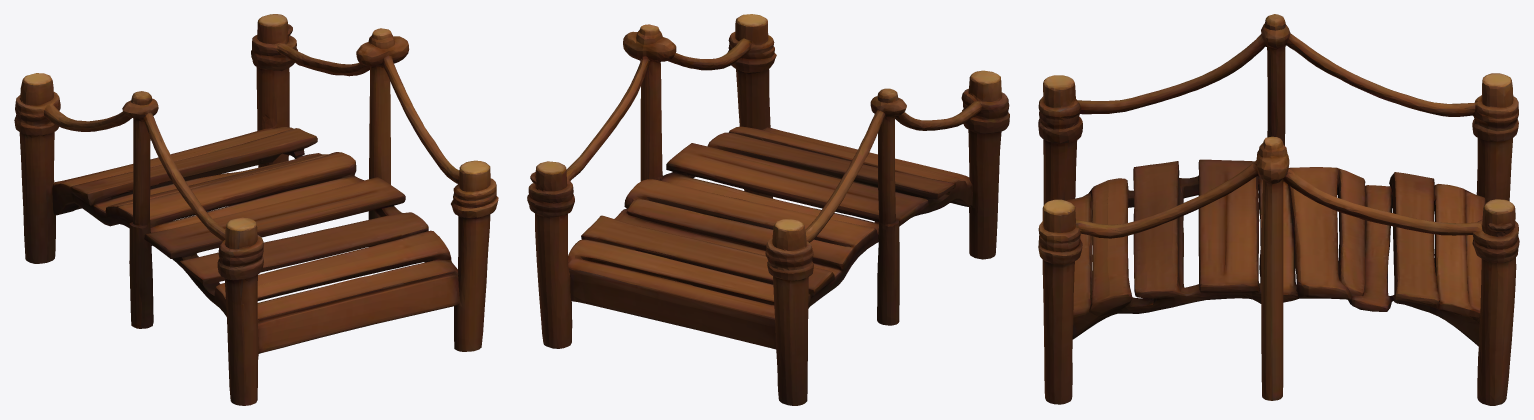
Rendered from wood_bridge.glb.
The picture shows the model from 3 angles, left to right: view 1: azimuth 30°, elevation 25°; view 2: azimuth 150°, elevation 25°; view 3: azimuth 270°, elevation 25°; orthographic projection. The views are drawn at different scales.
Parts seen in each view (by area): view 1: world.001; view 2: world.001; view 3: world.001.
Part boxes in pixels (bbox=[...]): world.001: bbox=[14, 14, 498, 405]; world.001: bbox=[527, 14, 1009, 405]; world.001: bbox=[1038, 14, 1519, 405].
Size of the model in its own units: 0.7592 by 0.6053 by 1.
1 material, 1 textured.
